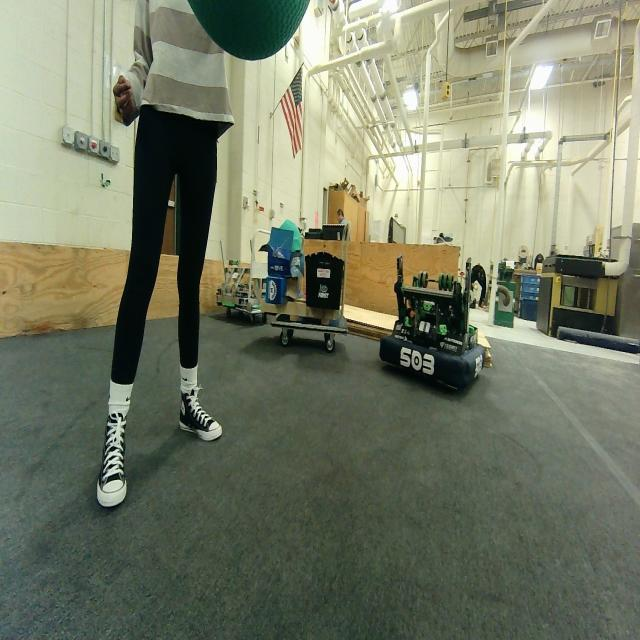algae: (187, 0, 309, 60)
